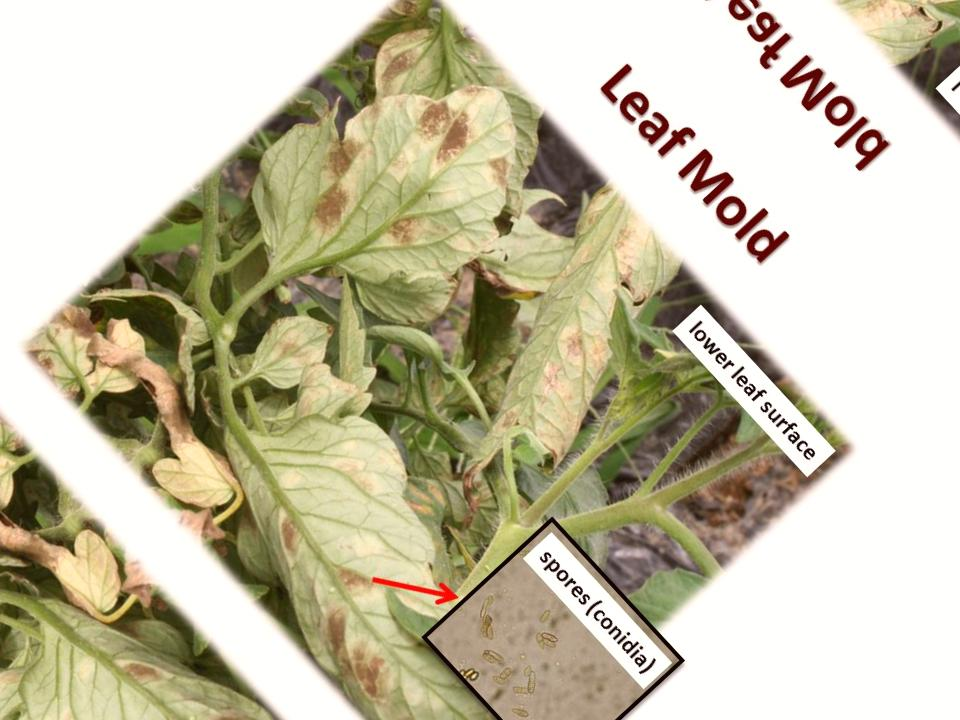Tomato mold leaf: (165, 344, 608, 720), (202, 2, 580, 375), (383, 171, 723, 505), (225, 287, 351, 412)
